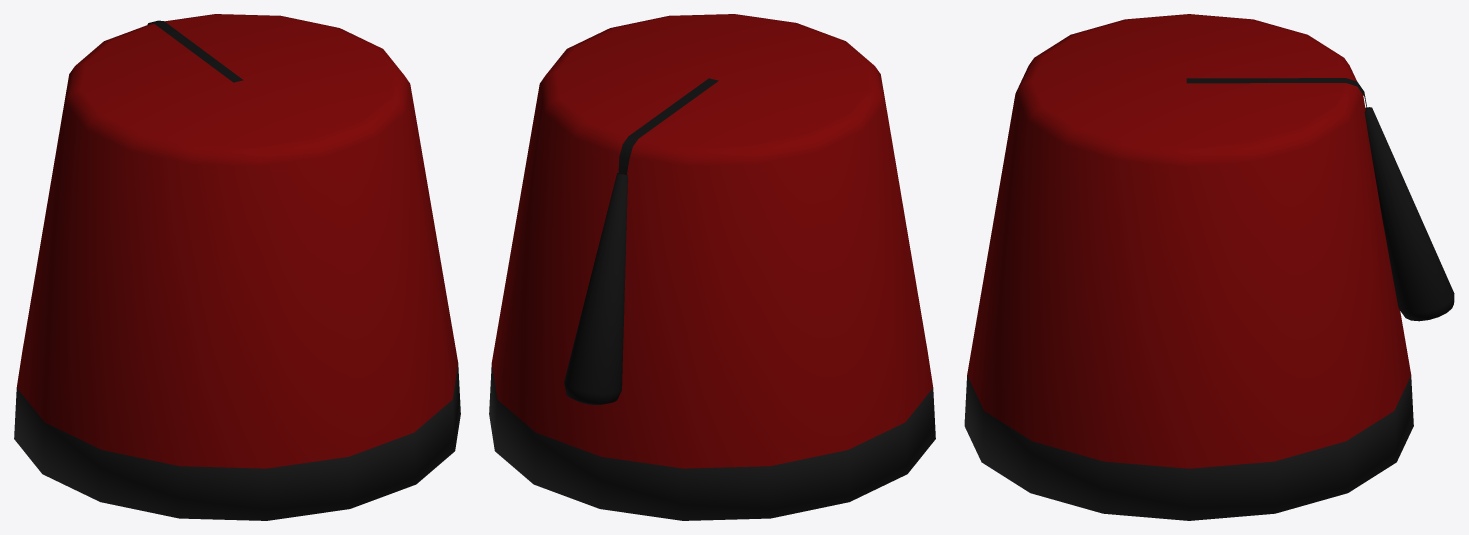
File: fez.fbx
3 views of the same model, side by side, from view 1: azimuth 30°, elevation 25°; view 2: azimuth 150°, elevation 25°; view 3: azimuth 270°, elevation 25° (orthographic).
Parts seen in each view (by area): view 1: Circle.003, Plane; view 2: Circle.003, Circle.004, Plane; view 3: Circle.003, Circle.004, Plane.
Part boxes in pixels (<box>): Circle.003: <box>14,14,460,520</box>; Plane: <box>147,20,243,82</box>; Circle.003: <box>489,14,935,520</box>; Circle.004: <box>564,173,627,404</box>; Plane: <box>618,78,718,174</box>; Circle.003: <box>964,14,1413,520</box>; Circle.004: <box>1364,107,1454,321</box>; Plane: <box>1186,78,1367,110</box>.
Bounding box in the file's own units: 4.37 × 3.71 × 4.77.
